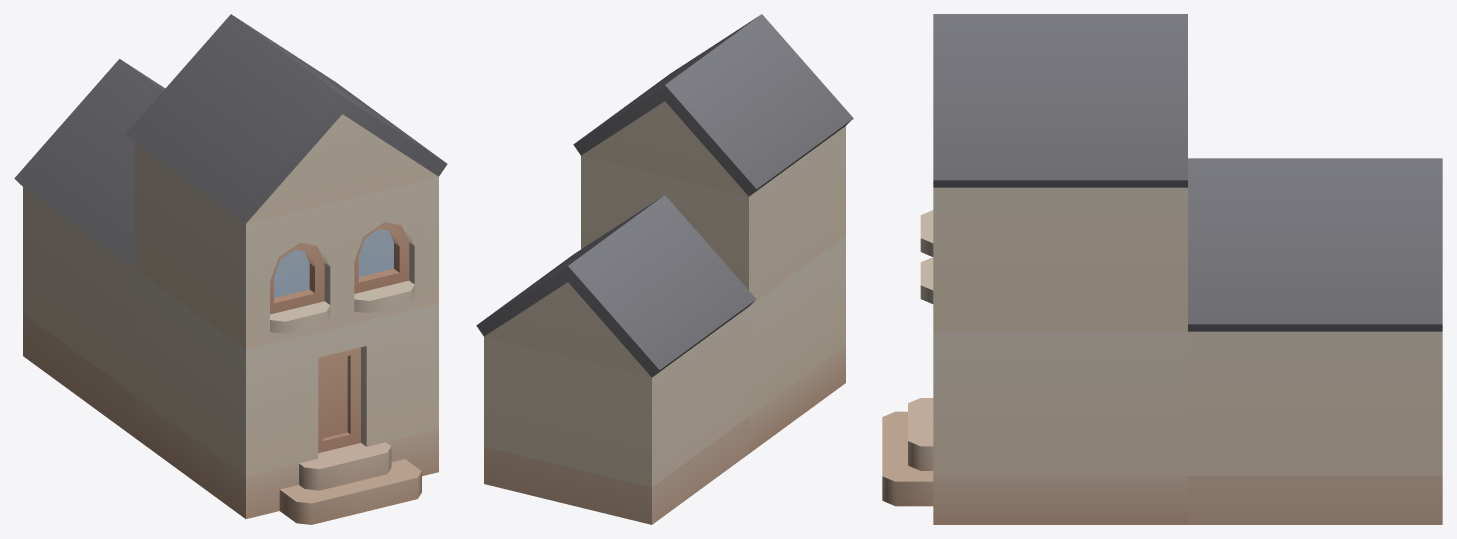
The model's file is building-sample-house-b.glb.
The picture shows the model from 3 angles, left to right: view 1: azimuth 30°, elevation 25°; view 2: azimuth 150°, elevation 25°; view 3: azimuth 270°, elevation 25°; orthographic projection. The views are drawn at different scales.
Parts seen in each view (by area): view 1: building-sample-house-b; view 2: building-sample-house-b; view 3: building-sample-house-b.
Boxes of the visible parts, bbox=[...] form: building-sample-house-b: bbox=[14, 14, 447, 524]; building-sample-house-b: bbox=[476, 14, 853, 524]; building-sample-house-b: bbox=[882, 14, 1442, 524].
Bounding box in the file's own units: 1.09 × 1.98 × 2.2.
